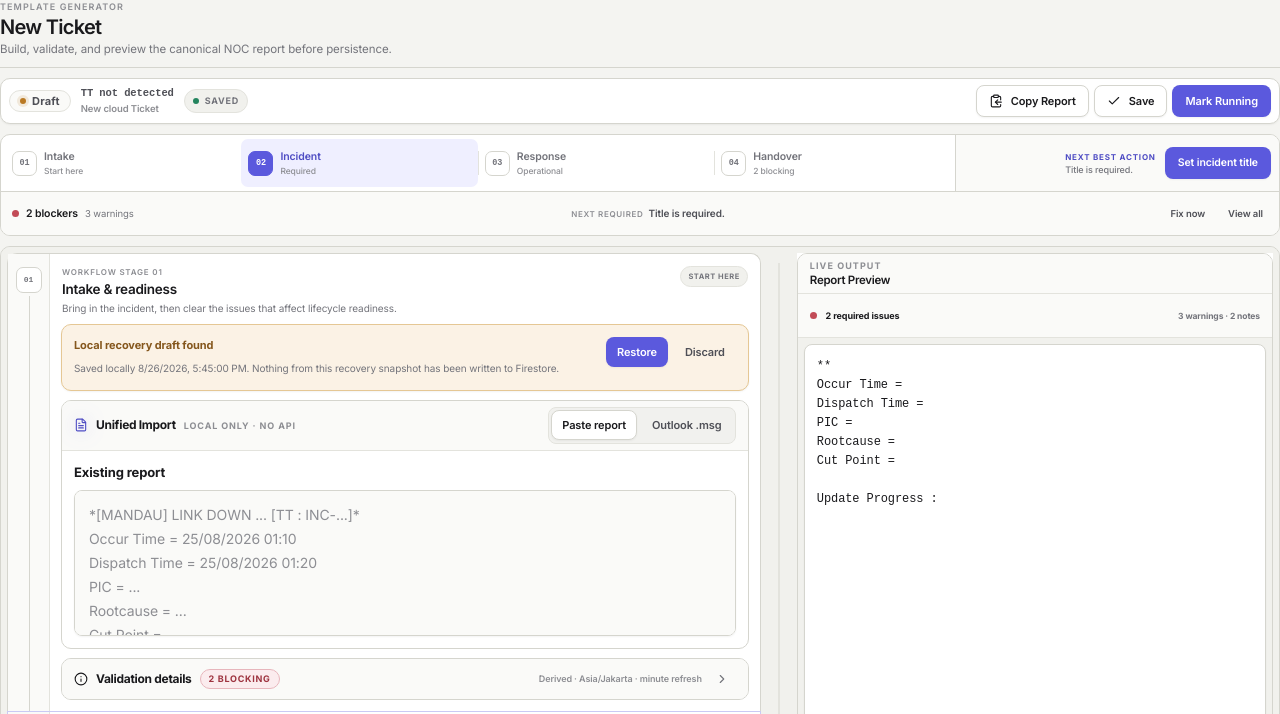
Scenario: TicketGenerator local draft recovery › restores a new Ticket form, local Progress timeline, and composer draft without Firestore
expect the element named "Draft recovery" is shown: met, box [61, 324, 749, 391]
Step 1. Click the button "Restore" → (637, 352), box [606, 337, 668, 367]
(page scrolled)
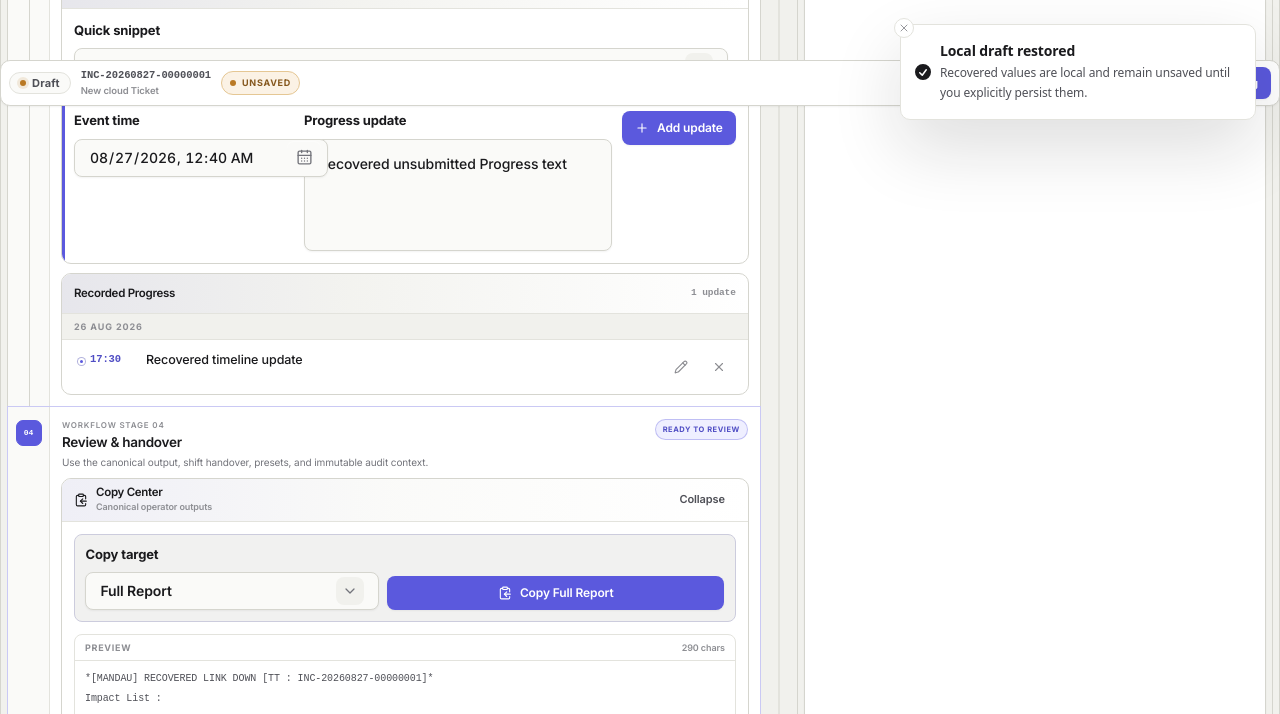
expect the text box labelled "Progress update" holds "Recovered unsubmitted Progress text": met, box [304, 139, 612, 251]
expect the text "Recovered timeline update" is shown: met, box [146, 352, 303, 367]
